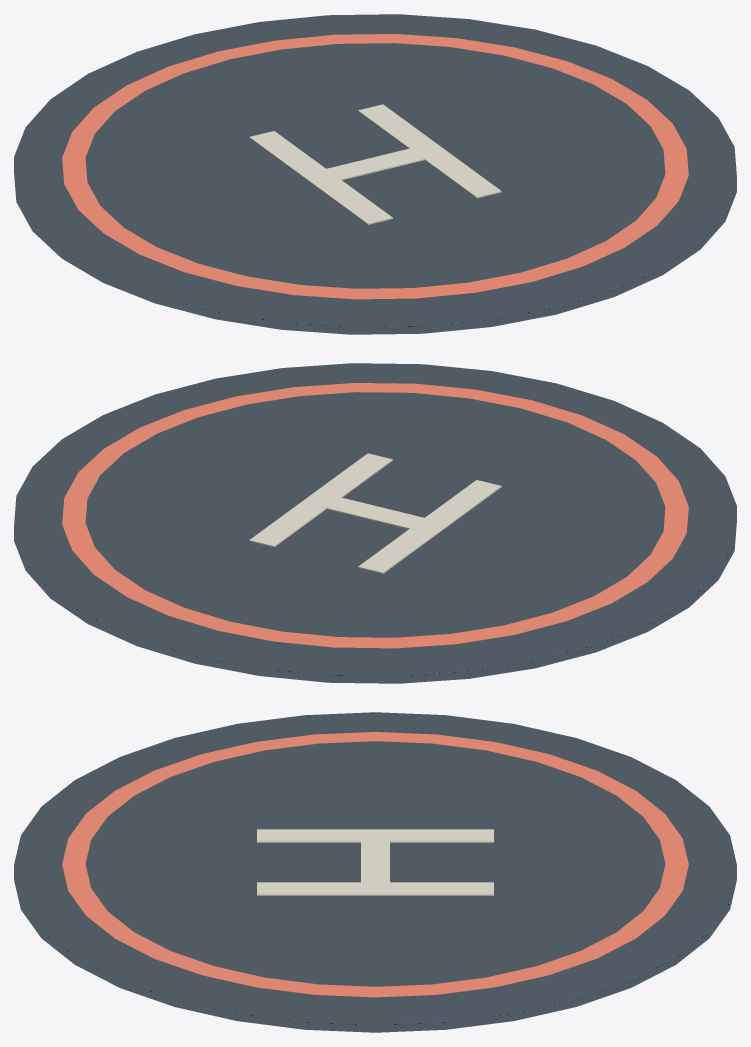
Rendered from HL_Prop_Helipad.fbx.
3 views of the same model, one above another, from view 1: azimuth 30°, elevation 25°; view 2: azimuth 150°, elevation 25°; view 3: azimuth 270°, elevation 25° (orthographic).
Parts seen in each view (by area): view 1: Helipad | inner landing zone, Helipad | concrete disc, Helipad | safety circle, Helipad | H left, Helipad | H right, Helipad | H bridge; view 2: Helipad | inner landing zone, Helipad | concrete disc, Helipad | safety circle, Helipad | H left, Helipad | H right, Helipad | H bridge; view 3: Helipad | inner landing zone, Helipad | concrete disc, Helipad | safety circle, Helipad | H right, Helipad | H left, Helipad | H bridge.
Part boxes in pixels (left/top/right/bottom): Helipad | inner landing zone: left=85, top=43, right=665, bottom=288; Helipad | concrete disc: left=14, top=14, right=736, bottom=334; Helipad | safety circle: left=62, top=34, right=688, bottom=299; Helipad | H left: left=249, top=131, right=392, bottom=224; Helipad | H right: left=358, top=104, right=501, bottom=198; Helipad | H bridge: left=320, top=147, right=430, bottom=180; Helipad | inner landing zone: left=85, top=392, right=665, bottom=637; Helipad | concrete disc: left=14, top=363, right=736, bottom=683; Helipad | safety circle: left=62, top=383, right=688, bottom=648; Helipad | H left: left=358, top=480, right=501, bottom=573; Helipad | H right: left=249, top=453, right=392, bottom=547; Helipad | H bridge: left=320, top=496, right=430, bottom=529; Helipad | inner landing zone: left=85, top=741, right=665, bottom=986; Helipad | concrete disc: left=14, top=712, right=736, bottom=1032; Helipad | safety circle: left=62, top=732, right=688, bottom=997; Helipad | H right: left=257, top=882, right=493, bottom=895; Helipad | H left: left=257, top=829, right=493, bottom=842; Helipad | H bridge: left=361, top=838, right=389, bottom=885.
Bounding box in the file's own units: 1050 × 28.9 × 1050.
